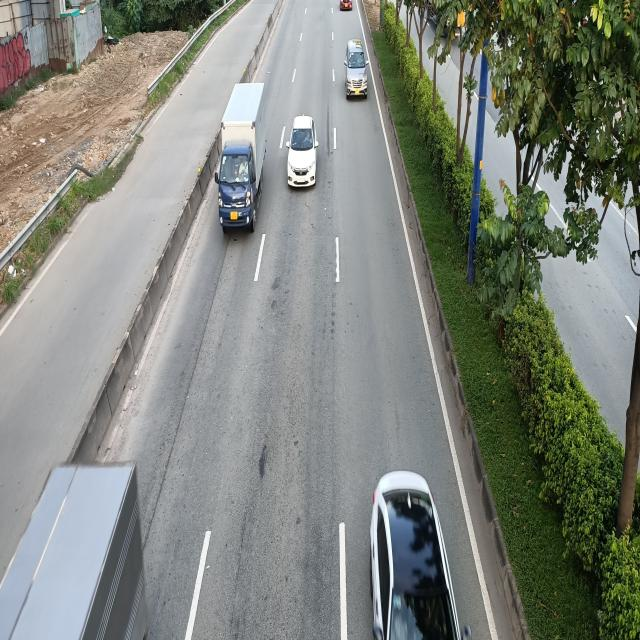car: (286, 116, 319, 191), (344, 39, 370, 100)
truck: (212, 84, 264, 234)
